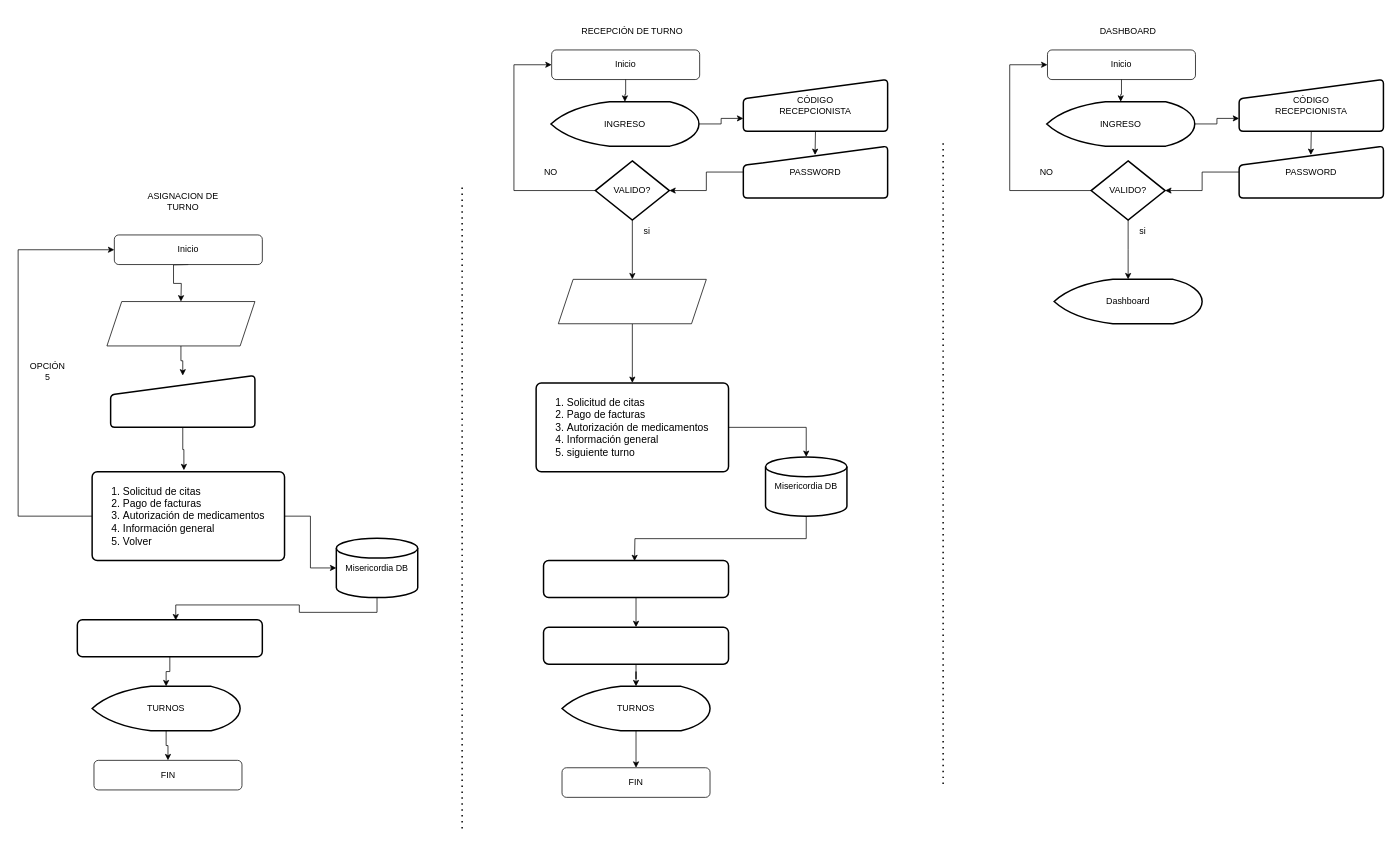
Some shapes in this 1397 by 842 pixel diagram are drawn without their labels. Each missing label, with the box of its shape:
Creación de Turno: (76, 619, 263, 657)
Número Documento: (110, 374, 255, 428)
Selección de Turno: (558, 279, 706, 324)
Selección tipo documento: (106, 301, 255, 346)
Siguiente Turno: (542, 626, 729, 665)
Turno Inactivo: (542, 559, 729, 598)
